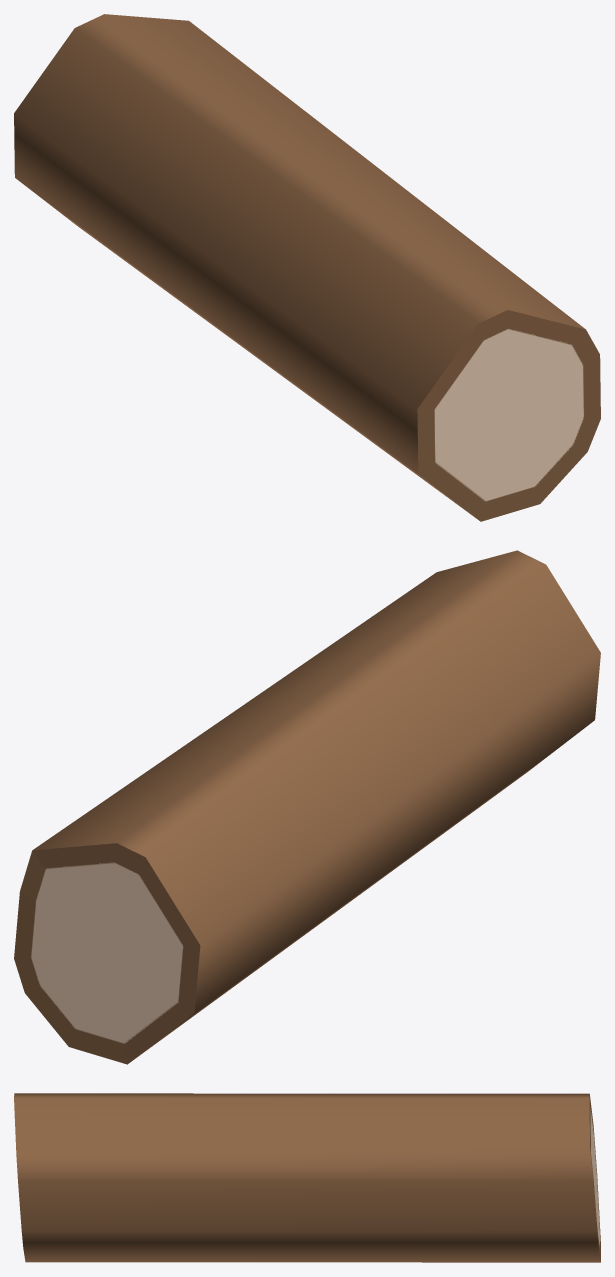
Rendered from Log_2.fbx.
3 views of the same model, one above another, from view 1: azimuth 30°, elevation 25°; view 2: azimuth 150°, elevation 25°; view 3: azimuth 270°, elevation 25° (orthographic). The views are drawn at different scales.
Parts seen in each view (by area): view 1: pCylinder1; view 2: pCylinder1; view 3: pCylinder1.
Boxes of the visible parts, x1,y1,x2,y2 form: pCylinder1: (14, 14, 600, 521); pCylinder1: (14, 550, 600, 1064); pCylinder1: (14, 1093, 600, 1262).
Size of the model in its own units: 1.42 by 1.56 by 5.45.
Materials: 1 (1 with a texture image).
